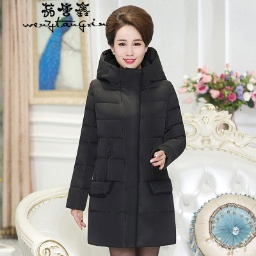face: (100, 4, 155, 71)
